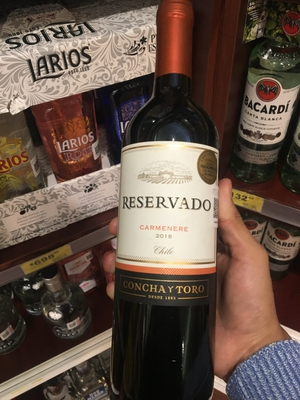reservado carmenere: (111, 8, 232, 387)
